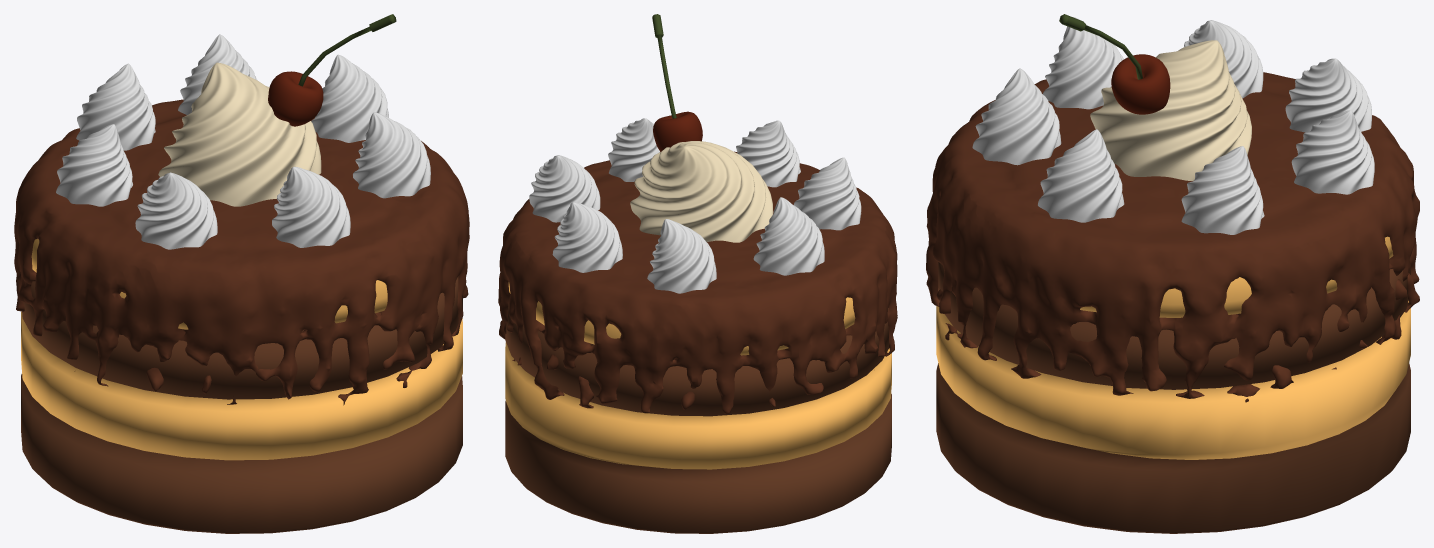
File: cake.glb
3 renders of one model, left to right at view 1: azimuth 30°, elevation 25°; view 2: azimuth 150°, elevation 25°; view 3: azimuth 270°, elevation 25°, orthographic. The views are drawn at different scales.
Visible parts, largest first — view 1: Cake, Icing, Butter Cream, Whipped Cream.004, Whipped Cream.005, Whipped Cream.006, Whipped Cream, Whipped Cream.003, Whipped Cream.001, Cherry, Whipped Cream.002; view 2: Cake, Icing, Butter Cream, Whipped Cream, Whipped Cream.001, Whipped Cream.002, Whipped Cream.006, Whipped Cream.003, Whipped Cream.005, Whipped Cream.004, Cherry; view 3: Icing, Cake, Butter Cream, Whipped Cream.005, Whipped Cream.004, Whipped Cream.003, Whipped Cream.002, Whipped Cream.006, Whipped Cream.001, Cherry, Whipped Cream.
Part boxes in pixels (bbox=[...]): Cake: bbox=[21, 238, 462, 533]; Icing: bbox=[14, 99, 469, 405]; Butter Cream: bbox=[158, 62, 321, 206]; Whipped Cream.004: bbox=[353, 112, 430, 198]; Whipped Cream.005: bbox=[272, 166, 350, 247]; Whipped Cream.006: bbox=[135, 172, 217, 249]; Whipped Cream: bbox=[56, 124, 132, 206]; Whipped Cream.003: bbox=[311, 54, 388, 142]; Whipped Cream.001: bbox=[76, 63, 155, 150]; Cherry: bbox=[268, 14, 396, 126]; Whipped Cream.002: bbox=[178, 34, 257, 114]; Cake: bbox=[505, 282, 891, 533]; Icing: bbox=[498, 151, 897, 413]; Butter Cream: bbox=[630, 141, 773, 242]; Whipped Cream: bbox=[753, 197, 824, 275]; Whipped Cream.001: bbox=[647, 219, 716, 293]; Whipped Cream.002: bbox=[552, 202, 622, 272]; Whipped Cream.006: bbox=[794, 157, 861, 230]; Whipped Cream.003: bbox=[529, 155, 600, 222]; Whipped Cream.005: bbox=[736, 120, 800, 187]; Whipped Cream.004: bbox=[608, 118, 659, 181]; Cherry: bbox=[652, 14, 702, 151]; Icing: bbox=[926, 72, 1419, 402]; Cake: bbox=[936, 236, 1410, 533]; Butter Cream: bbox=[1090, 40, 1251, 180]; Whipped Cream.005: bbox=[972, 68, 1061, 165]; Whipped Cream.004: bbox=[1038, 129, 1124, 222]; Whipped Cream.003: bbox=[1181, 146, 1264, 234]; Whipped Cream.002: bbox=[1291, 110, 1374, 194]; Whipped Cream.006: bbox=[1043, 17, 1123, 109]; Whipped Cream.001: bbox=[1285, 58, 1371, 132]; Cherry: bbox=[1059, 14, 1170, 114]; Whipped Cream: bbox=[1184, 20, 1263, 98].
Size of the model in its own units: 5.04 by 5.32 by 5.03.
